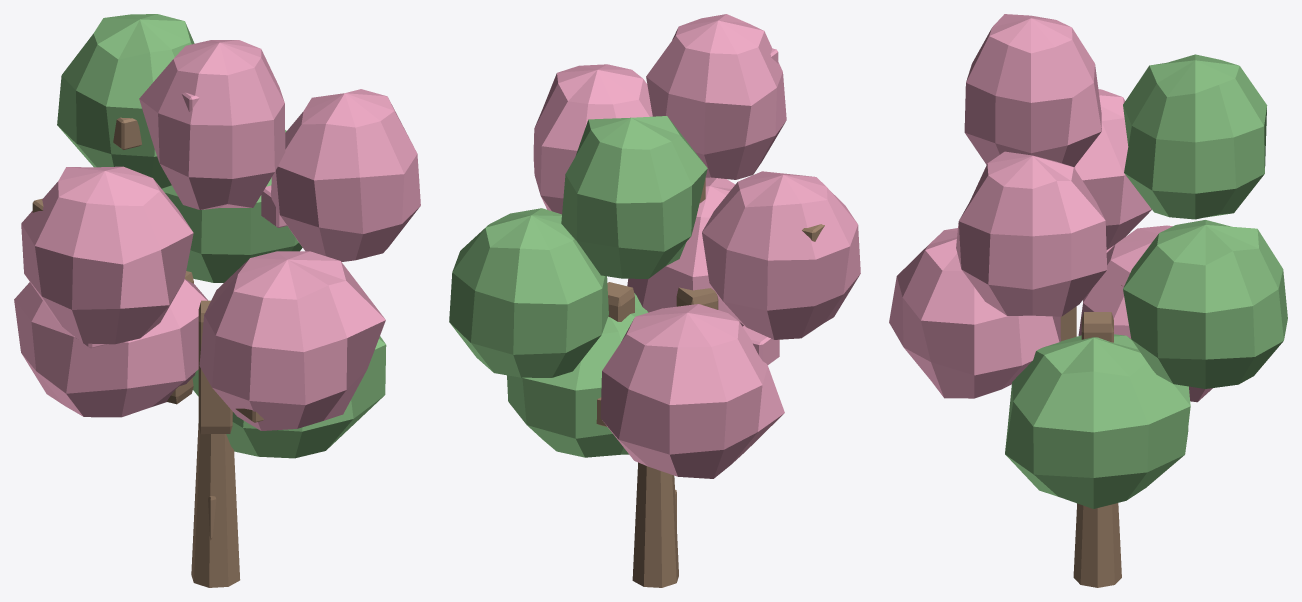
File: b08_crape_myrtle.glb
The picture shows the model from 3 angles, left to right: view 1: azimuth 30°, elevation 25°; view 2: azimuth 150°, elevation 25°; view 3: azimuth 270°, elevation 25°; orthographic projection. The views are drawn at different scales.
Parts seen in each view (by area): view 1: b08_crape_myrtle; view 2: b08_crape_myrtle; view 3: b08_crape_myrtle.
Boxes of the visible parts, x1=… form: b08_crape_myrtle: x1=14, y1=14, x2=420, y2=587; b08_crape_myrtle: x1=449, y1=14, x2=860, y2=587; b08_crape_myrtle: x1=889, y1=14, x2=1287, y2=587.
Size of the model in its own units: 2.58 by 3.94 by 2.62.
